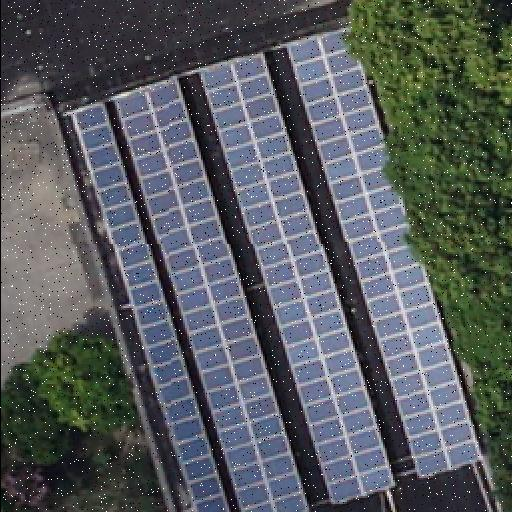solar-panel: (282, 31, 482, 481), (197, 54, 395, 506), (112, 80, 308, 512), (73, 104, 231, 512)
